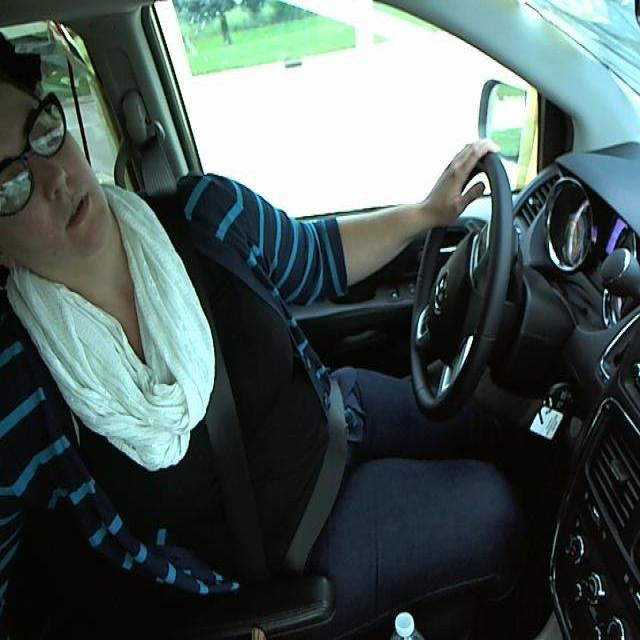seatbelt: (156, 209, 358, 560)
